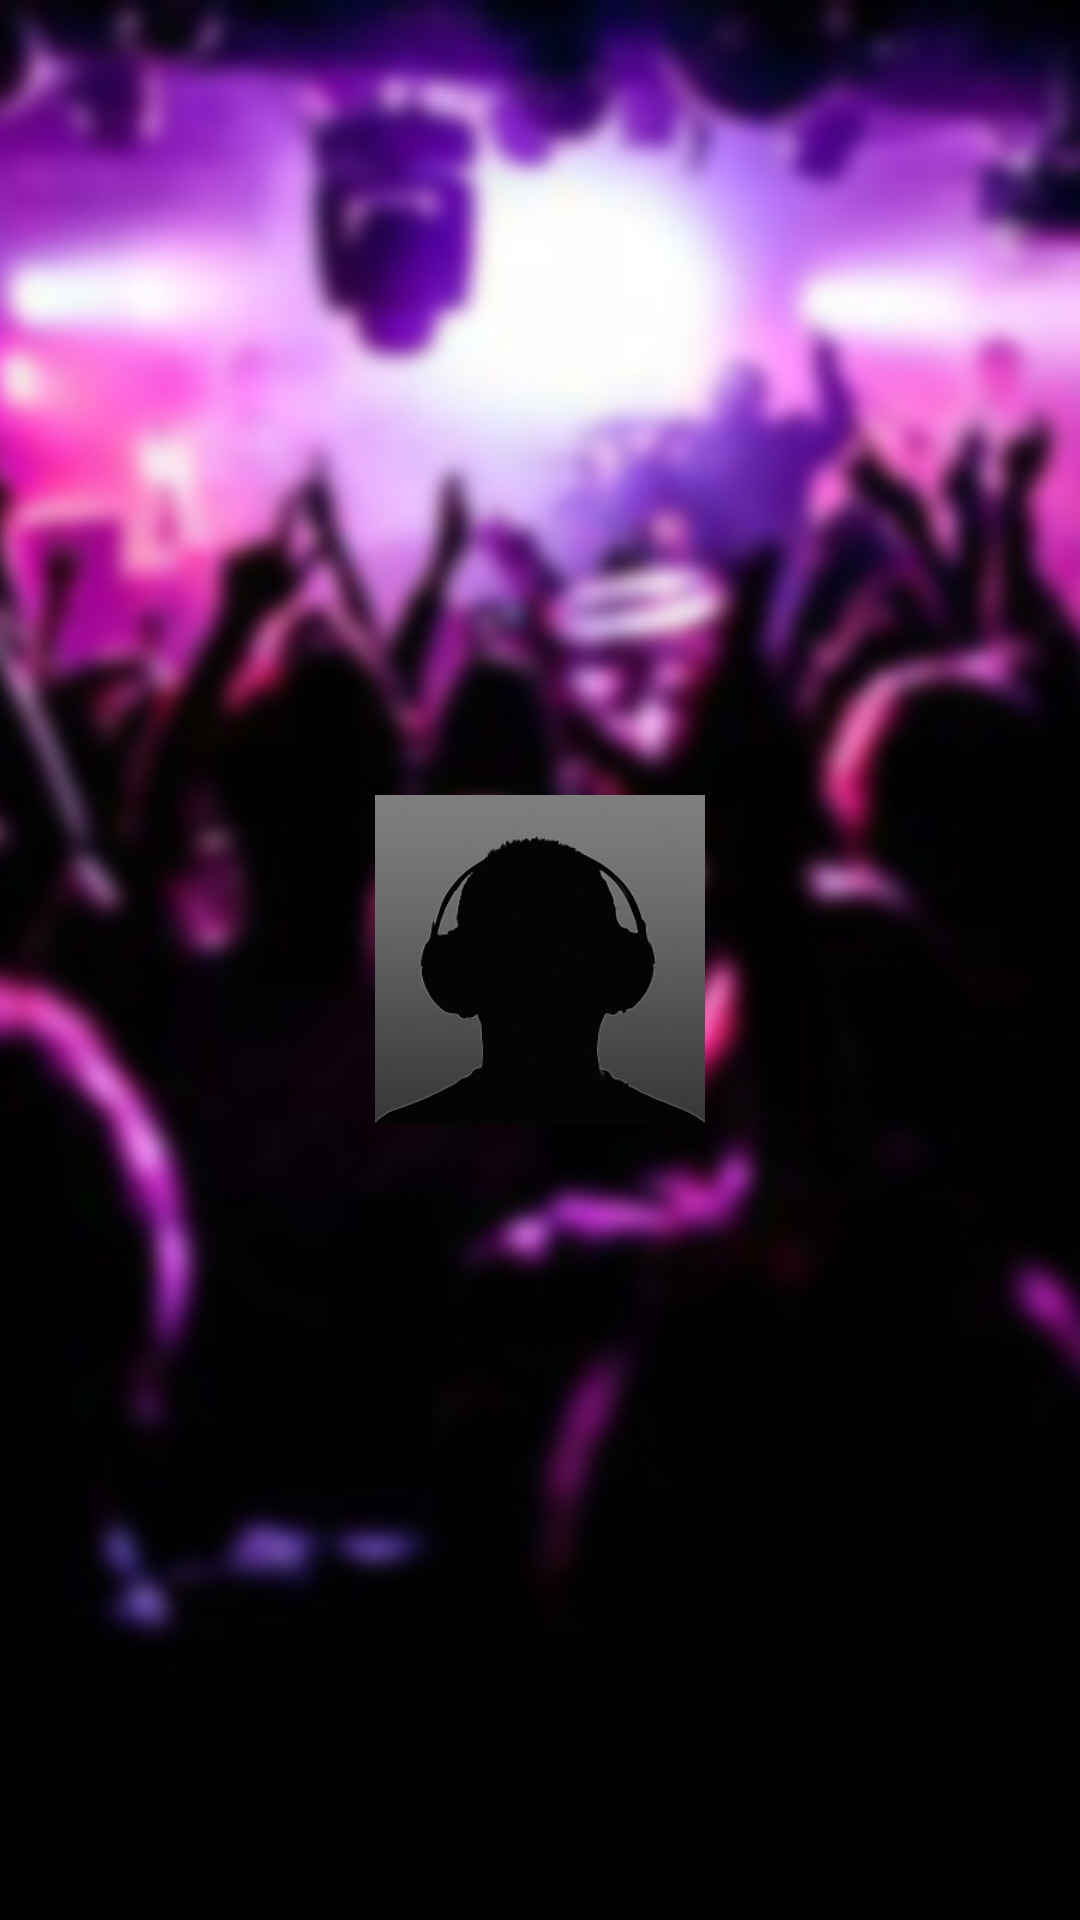

Where icons sit on this 1080 × 1920 app screen, as (x1=x1, y1=y1, x2=x2, y2=y2):
artist: (x1=375, y1=795, x2=705, y2=1123)
